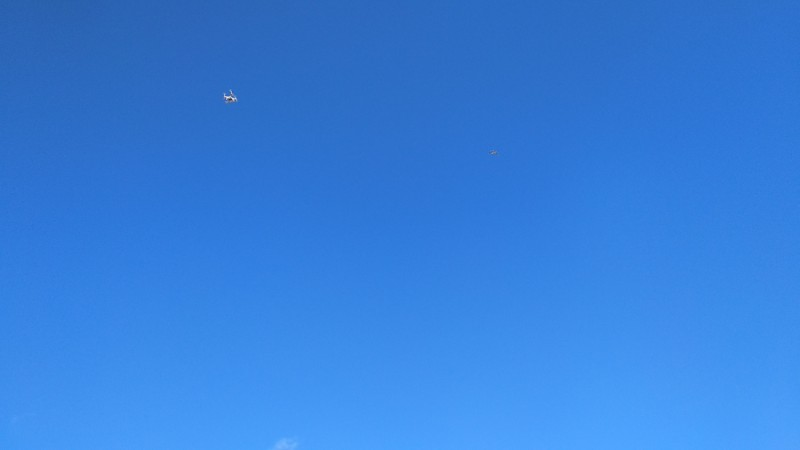drone: (221, 88, 239, 105)
